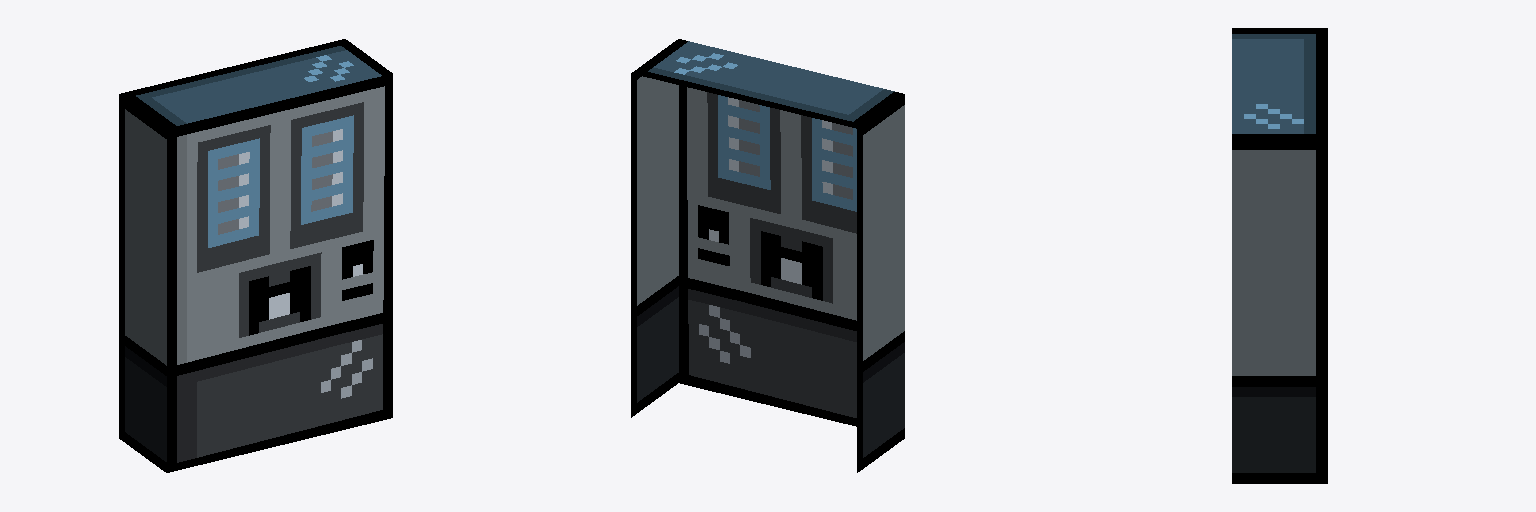
3 views of the same model, side by side, from view 1: azimuth 30°, elevation 25°; view 2: azimuth 150°, elevation 25°; view 3: azimuth 270°, elevation 25° (orthographic).
Parts seen in each view (by area): view 1: Box 1; view 2: Box 1; view 3: Box 1.
Part boxes in pixels (bbox=[...]): Box 1: bbox=[119, 39, 392, 472]; Box 1: bbox=[631, 39, 904, 472]; Box 1: bbox=[1232, 28, 1327, 483].
Bounding box in the file's own units: 22 × 32 × 8.
Materials: 1 (1 with a texture image).